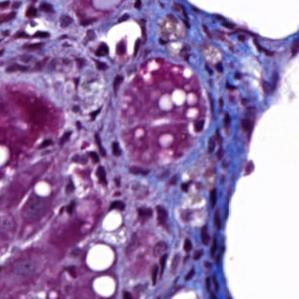inflammation: (92, 40, 115, 60)
